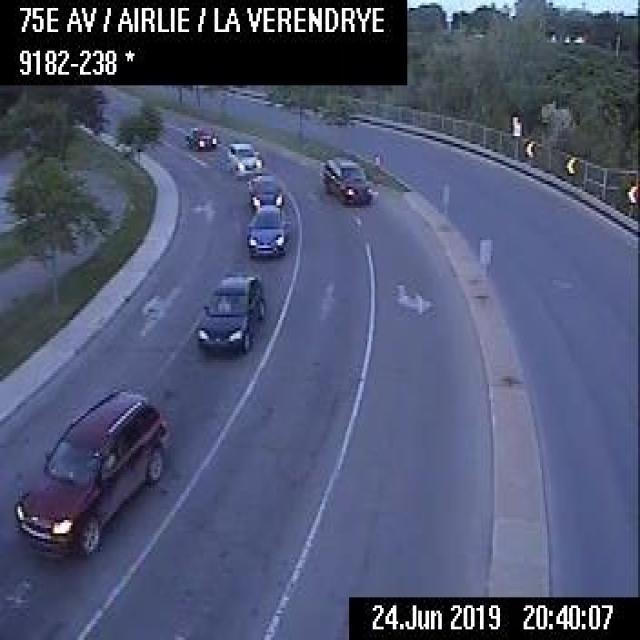vehicle: (9, 384, 167, 560), (191, 269, 266, 355), (319, 155, 373, 208), (242, 201, 291, 259), (225, 138, 261, 176), (245, 172, 283, 208), (184, 123, 215, 149)
